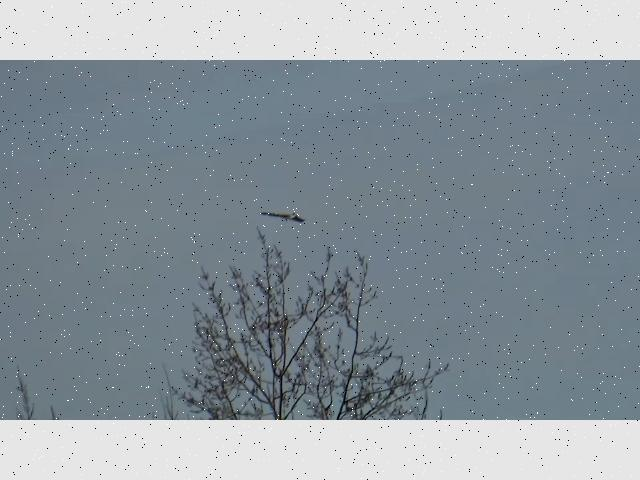Anti-Drone: (260, 212, 308, 221)
